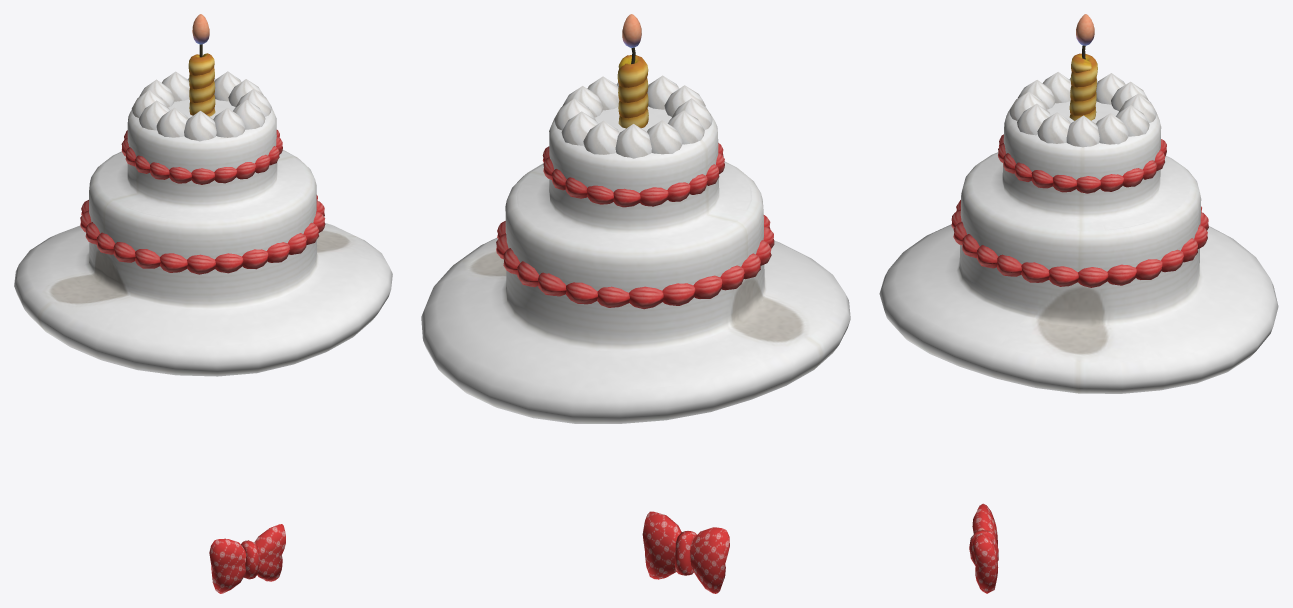
The model's file is pm0025_00_Rig.fbx.
3 views of the same model, side by side, from view 1: azimuth 30°, elevation 25°; view 2: azimuth 150°, elevation 25°; view 3: azimuth 270°, elevation 25° (orthographic). The views are drawn at different scales.
Visible parts, largest first — view 1: doodad_gofest_2022_hat, doodad_gofest_2022_bow; view 2: doodad_gofest_2022_hat, doodad_gofest_2022_bow; view 3: doodad_gofest_2022_hat, doodad_gofest_2022_bow.
Part boxes in pixels (box(x1,y1,x2,y2)): doodad_gofest_2022_hat: box(14, 14, 392, 376); doodad_gofest_2022_bow: box(209, 524, 285, 593); doodad_gofest_2022_hat: box(421, 14, 850, 423); doodad_gofest_2022_bow: box(642, 511, 729, 593); doodad_gofest_2022_hat: box(879, 14, 1278, 393); doodad_gofest_2022_bow: box(969, 503, 998, 593).
Size of the model in its own units: 0.2408 by 0.377 by 0.2406.
Materials: 2 (2 with a texture image).
